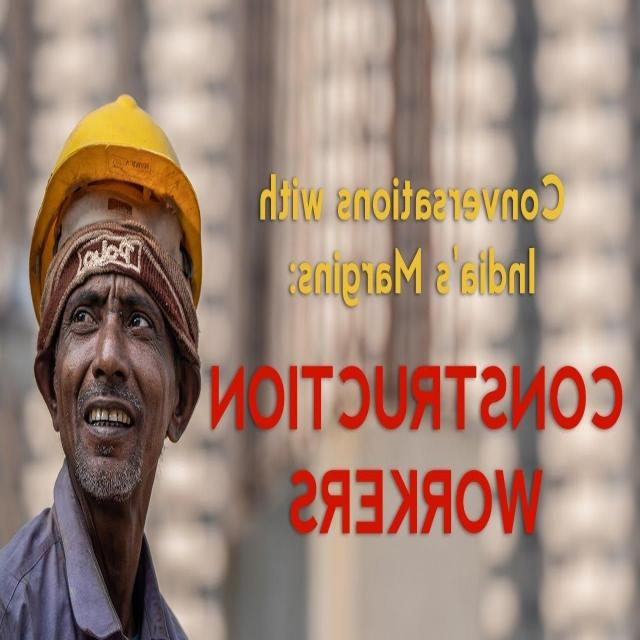Safety-Helmet: (25, 86, 209, 302)
